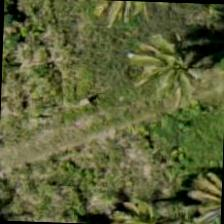Kelapa_Sawit: (122, 10, 214, 104)
